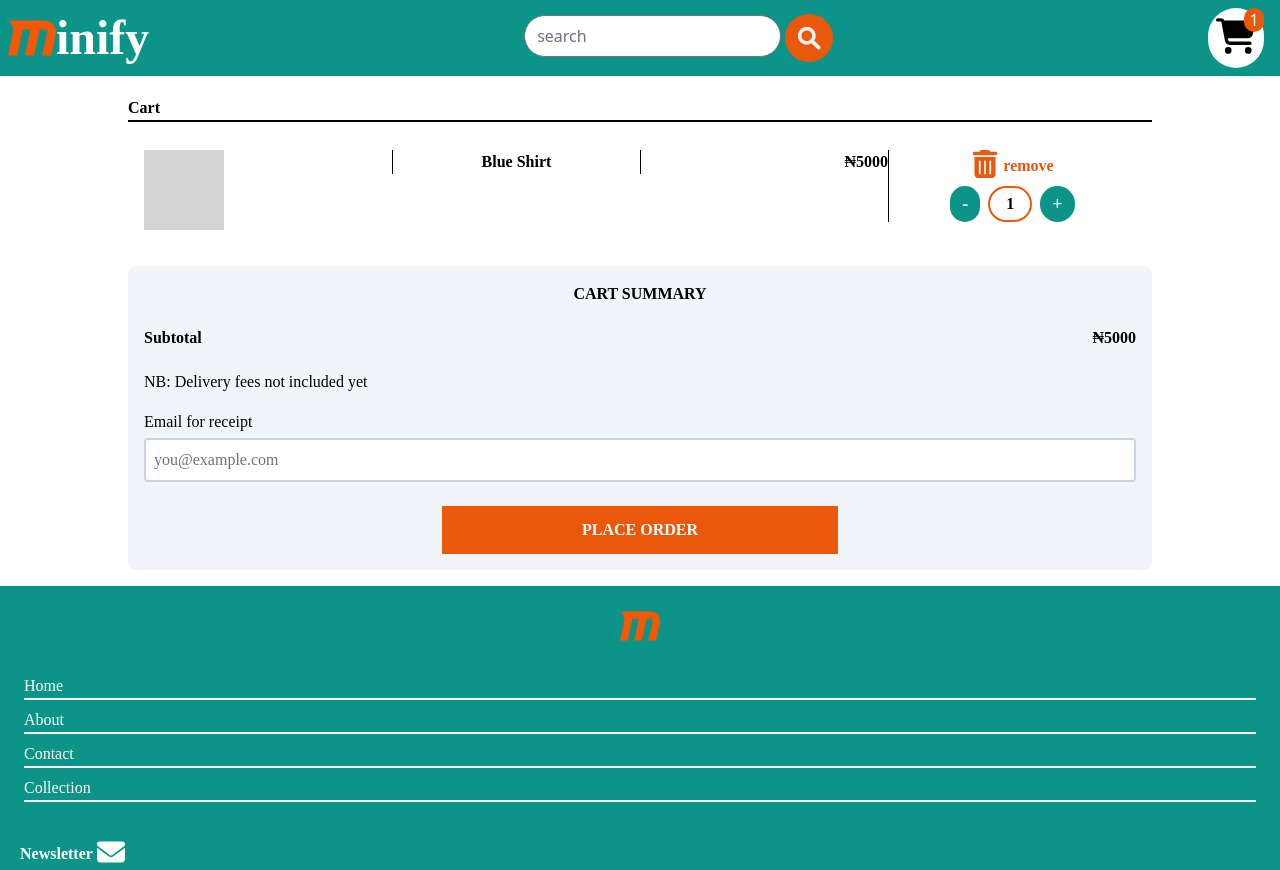
Test: Cart › shows an error and keeps the cart when payment verification fails
Expected: the text "Blue Shirt" is shown, [482,153,551,170]
Step 1. Type "test@example.com" into the field labelled "Email for receipt" → (640, 460), box [144,438,1136,482]
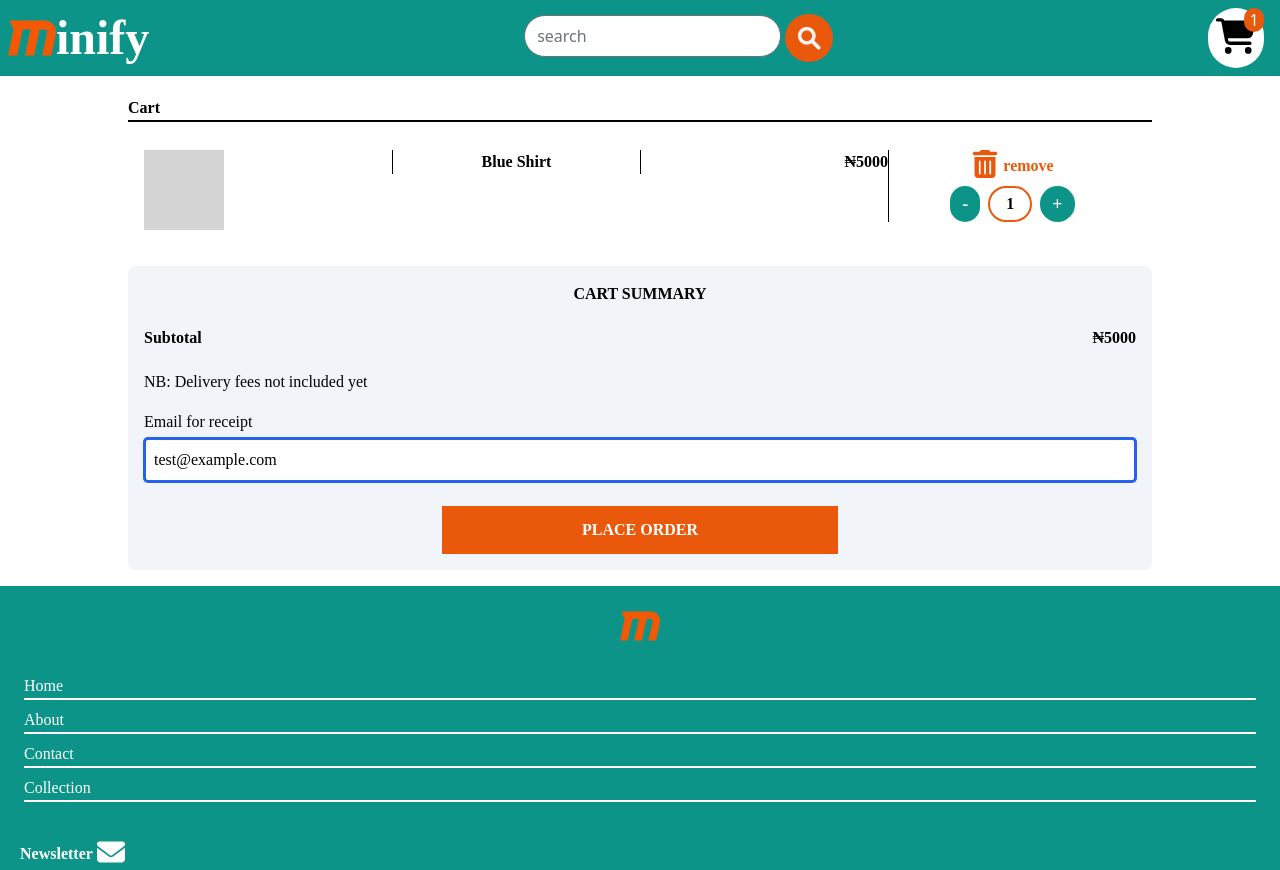
Step 2. Click the button "PLACE ORDER" → (640, 530), box [442,506,838,554]
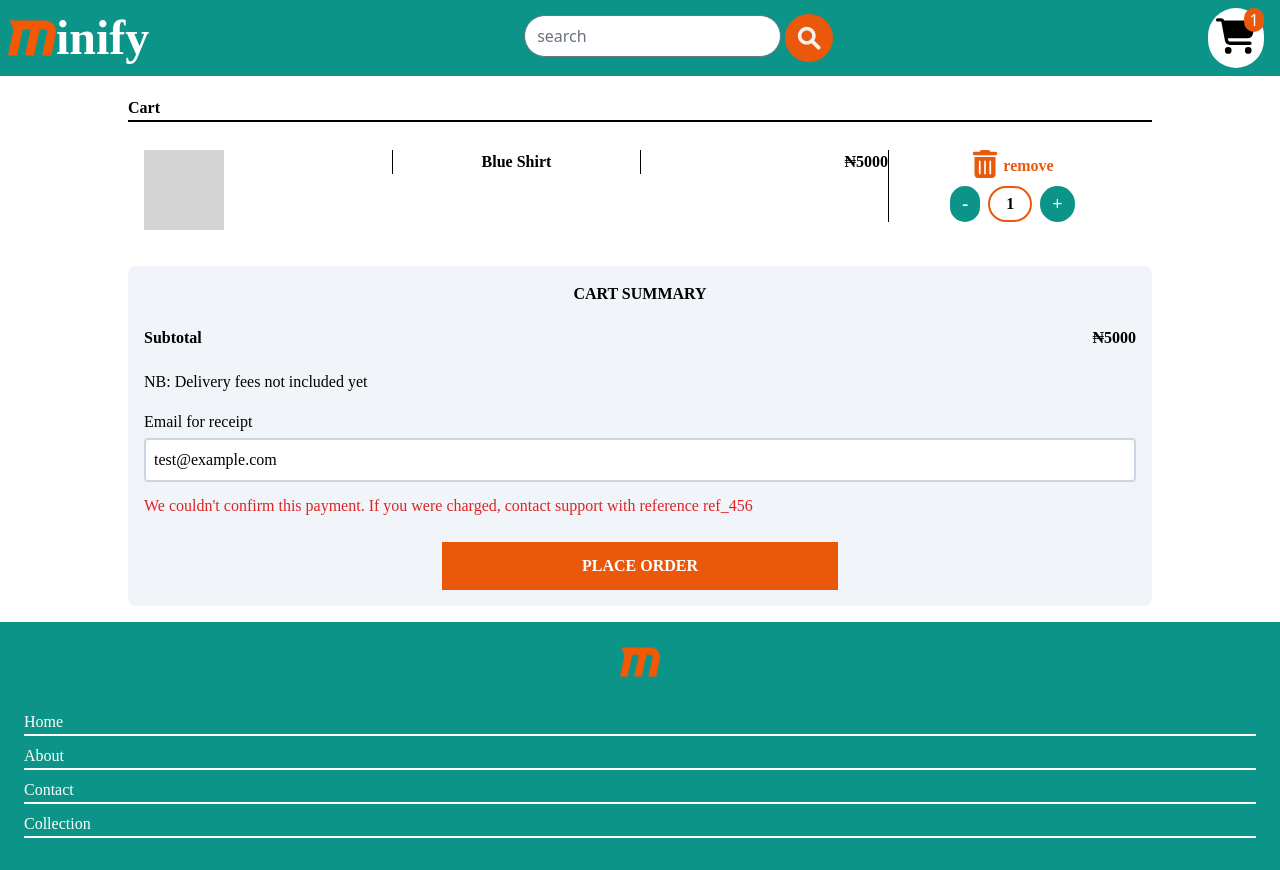
Result: the text "couldn't confirm this payment" is shown at [144,497,753,514]
